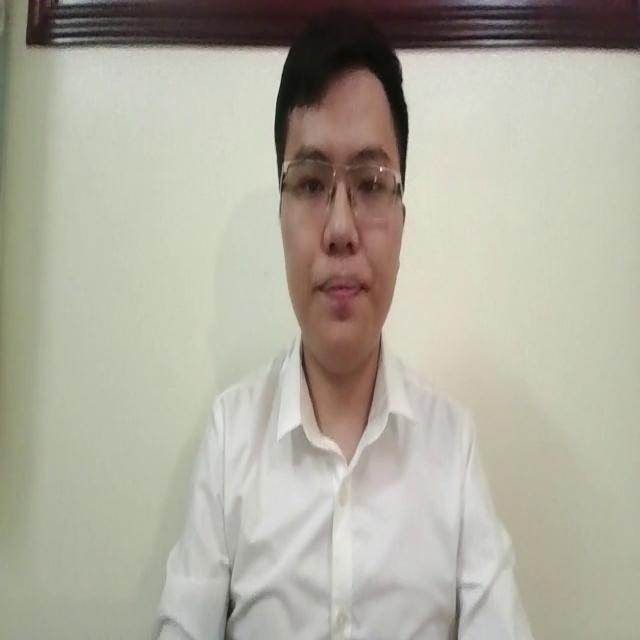student: (148, 6, 547, 640)
